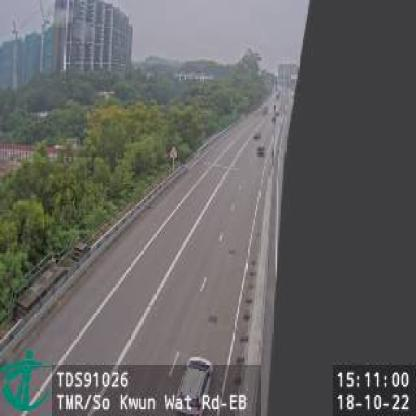Car: (167, 354, 215, 410)
